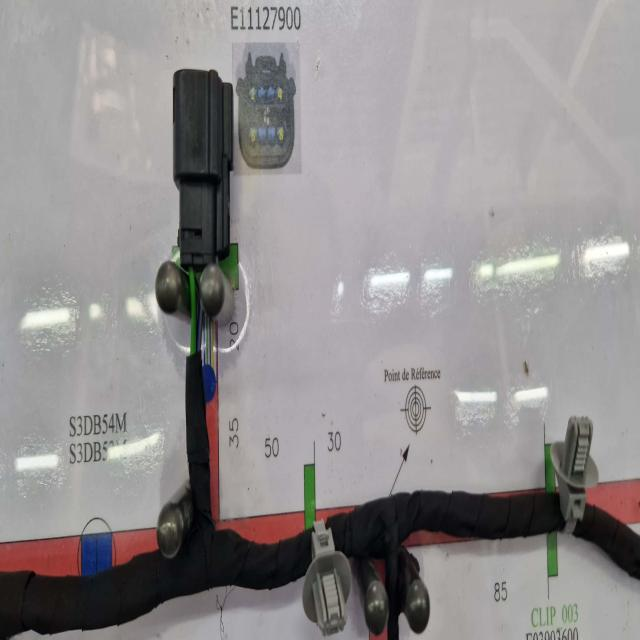Connector: (174, 65, 234, 261), (553, 412, 600, 527), (304, 526, 351, 640)
Gape: (182, 260, 207, 364)
MHEV_N11_Cable: (5, 358, 310, 640), (329, 491, 563, 640), (562, 502, 640, 579)
